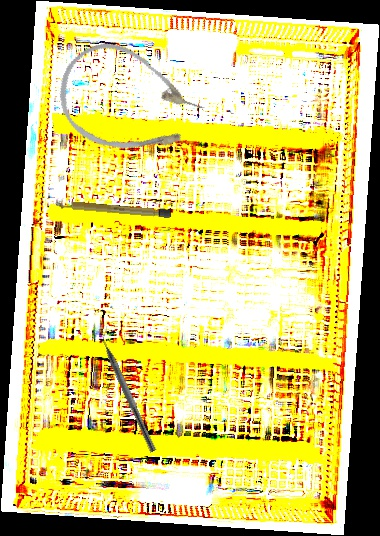Cannula: (44, 29, 215, 177)
Chopper: (94, 325, 165, 453)
Scalpel Handle: (53, 198, 173, 219)
